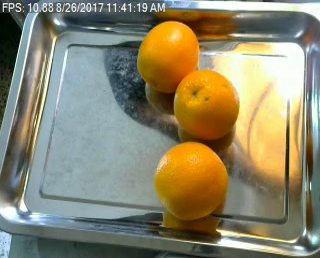Orange: (155, 141, 229, 219), (172, 70, 239, 140), (137, 19, 199, 92)
